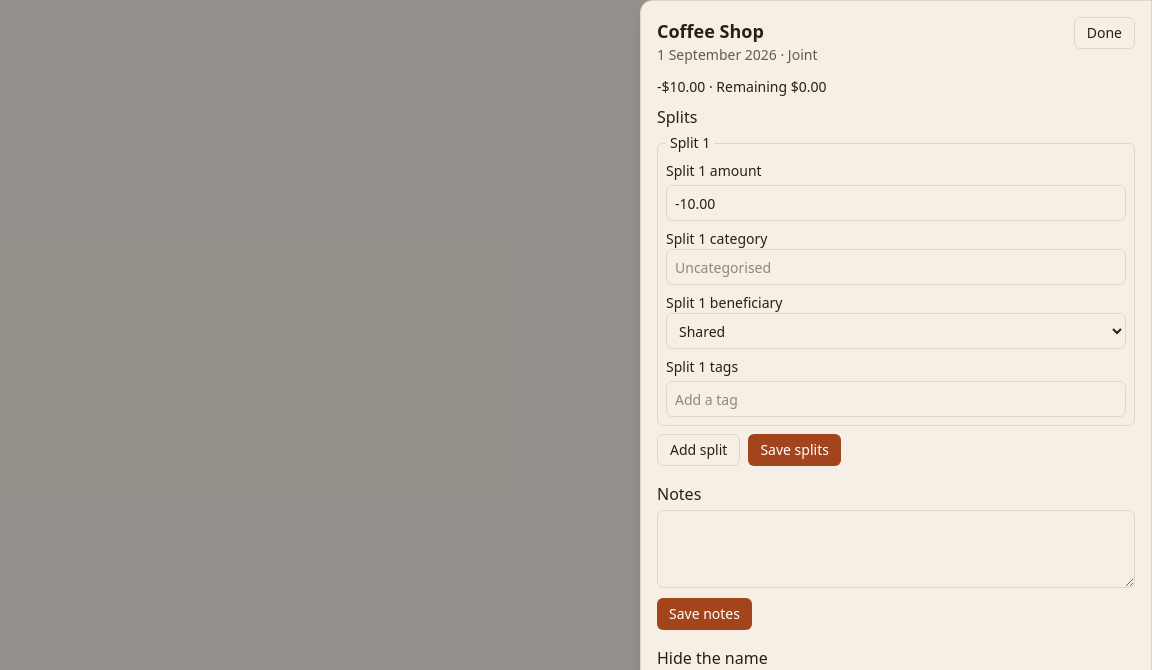
Test: TransactionSheet › replaces a split's tags as a set
This screenshot has width=1152, height=670.
Click the dropdown labelled "Add a tag". click: (896, 399)
box: [666,381,1126,417]
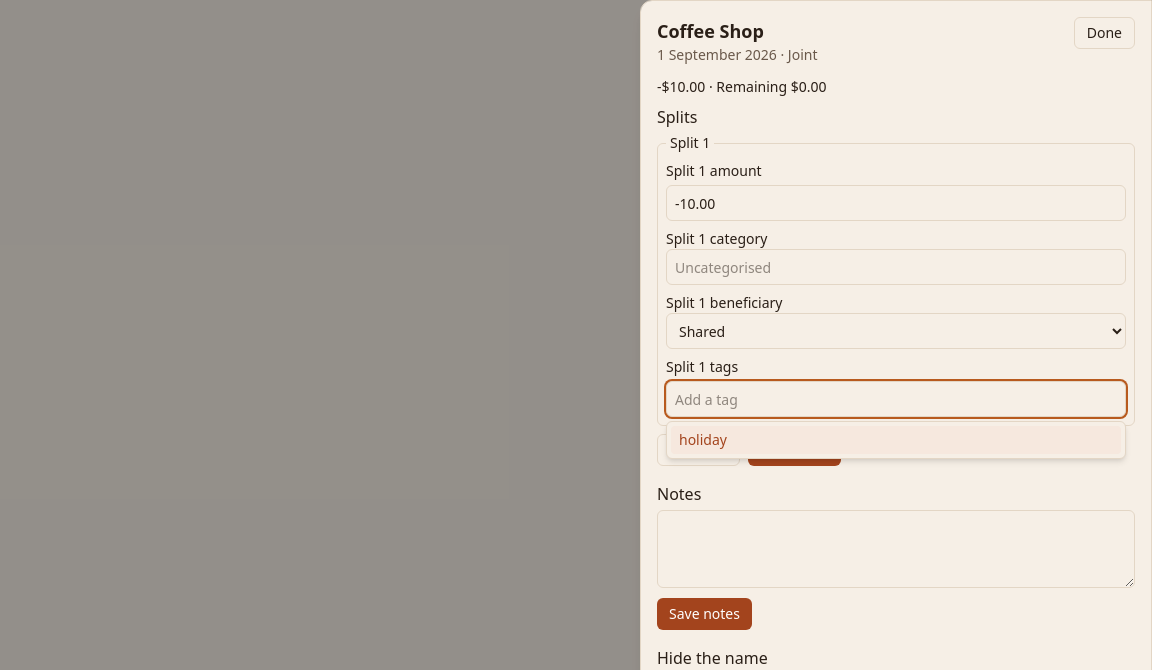
Click the option "holiday". click: (703, 440)
box: [671,426,1121,454]
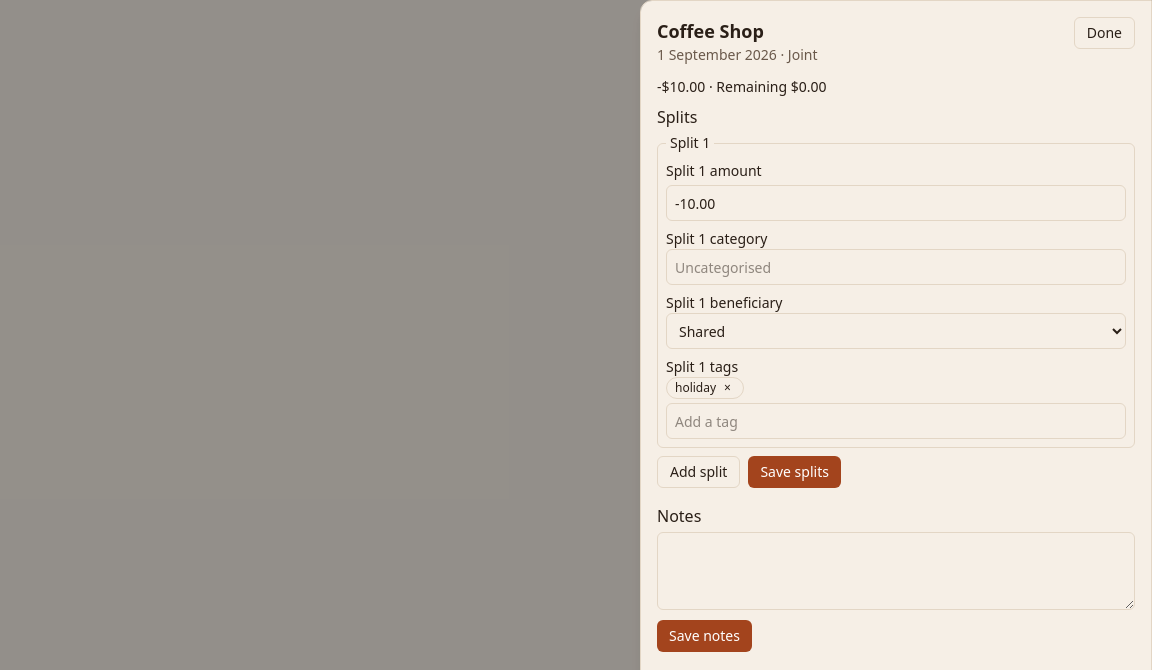
Now the button named "Remove tag holiday" is shown, box [720,380,735,396]
